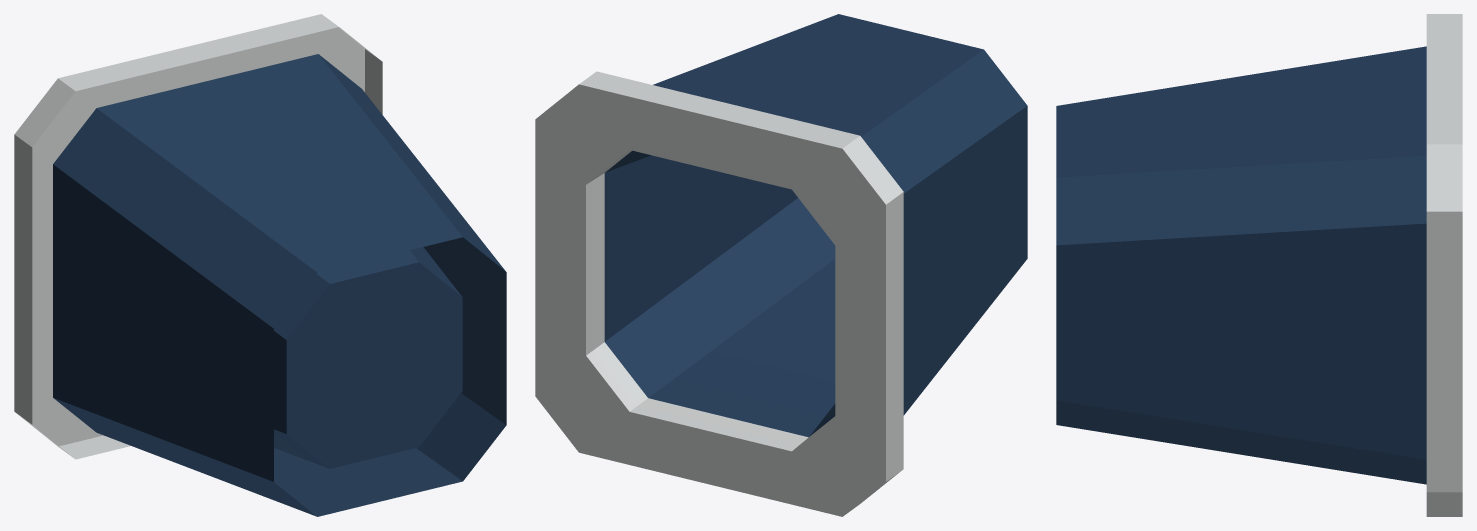
File: Bin 01.FBX
The picture shows the model from 3 angles, left to right: view 1: azimuth 30°, elevation 25°; view 2: azimuth 150°, elevation 25°; view 3: azimuth 270°, elevation 25°; orthographic projection.
Visible parts, largest first — view 1: Bin 01; view 2: Bin 01; view 3: Bin 01.
Boxes of the visible parts, box(x1,y1,x2,y2) form: Bin 01: box(14, 14, 506, 516); Bin 01: box(535, 14, 1027, 516); Bin 01: box(1056, 14, 1462, 516).
Bounding box in the file's own units: 56.48 × 56.7 × 55.97.
Materials: 1 (1 with a texture image).
